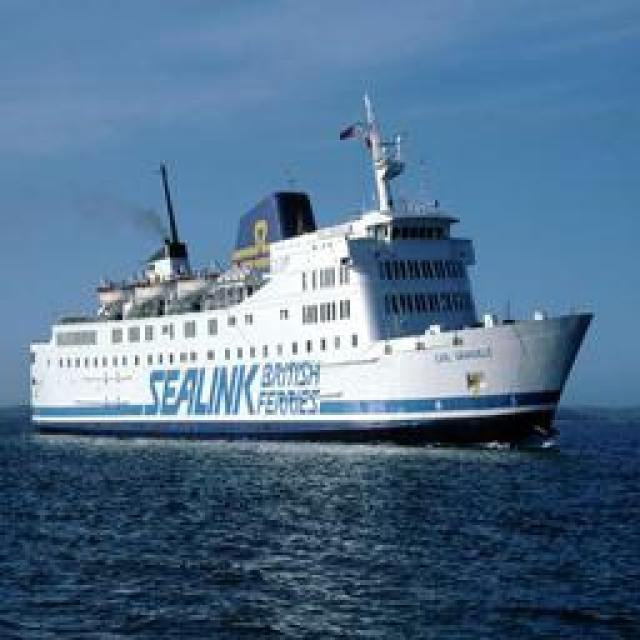ship2: (29, 90, 594, 448)
